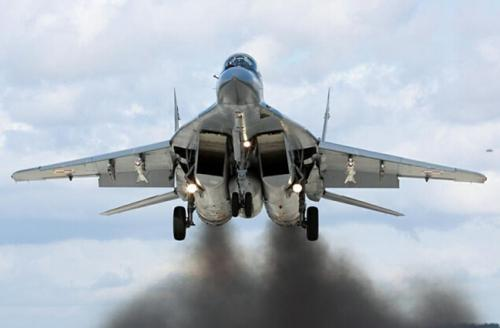smoke: (191, 222, 426, 328)
